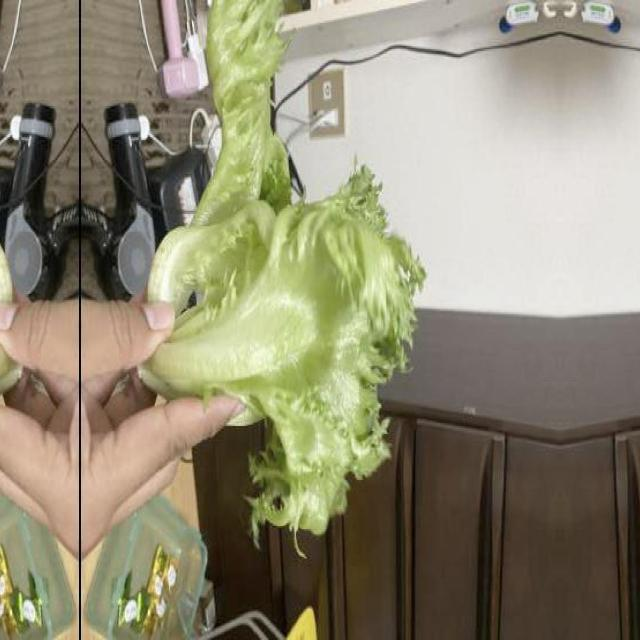healthy: (146, 1, 428, 546), (0, 0, 14, 545)
